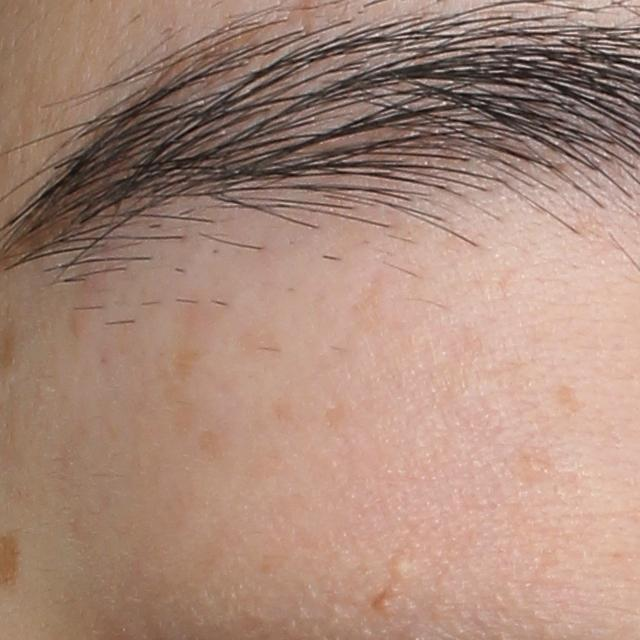melasma: (170, 309, 198, 386), (547, 386, 578, 413)
